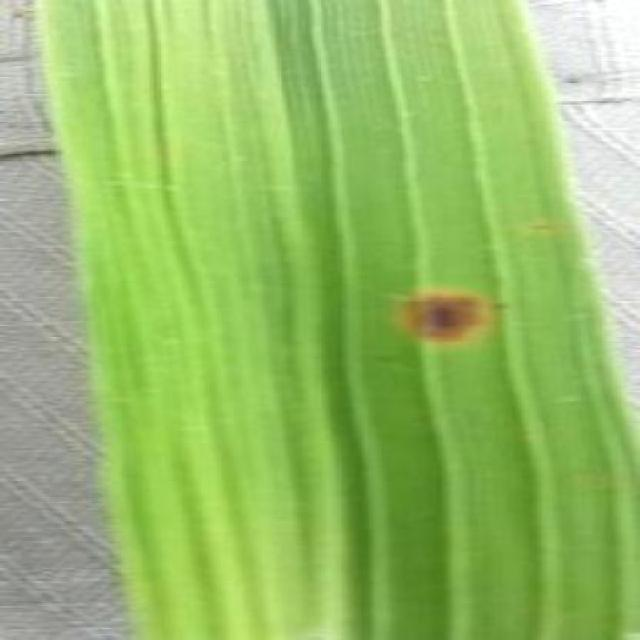Leaf_Blast: (370, 271, 498, 366), (589, 603, 640, 639), (278, 616, 347, 639), (517, 212, 557, 238)
